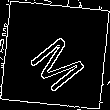M_NE: (21, 21, 89, 89)
